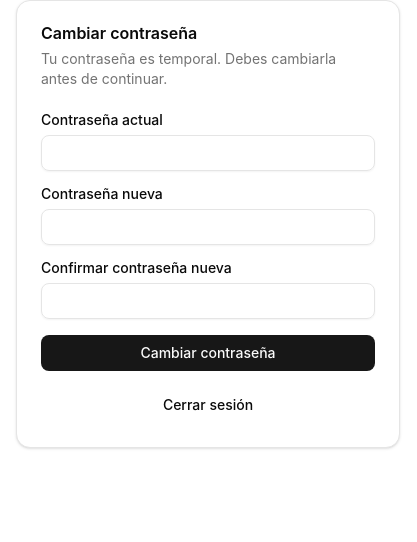
Test case: ChangePasswordPage › checks the password rules before sending
The image size is (417, 542).
In the password field labelled "Contraseña actual": (208, 153) 41,135 -> 375,171, type "Sierap-Inicio-2026"
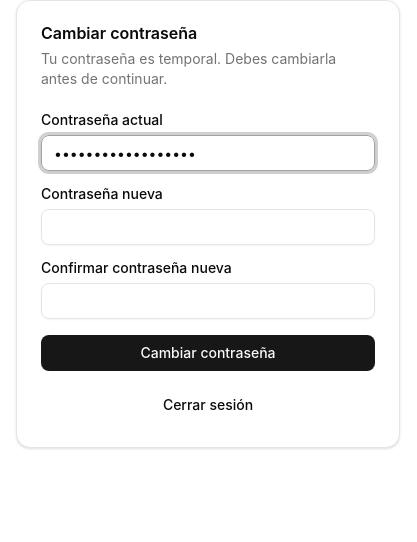
In the password field labelled "Contraseña nueva": (208, 227) 41,209 -> 375,245, type "corta"
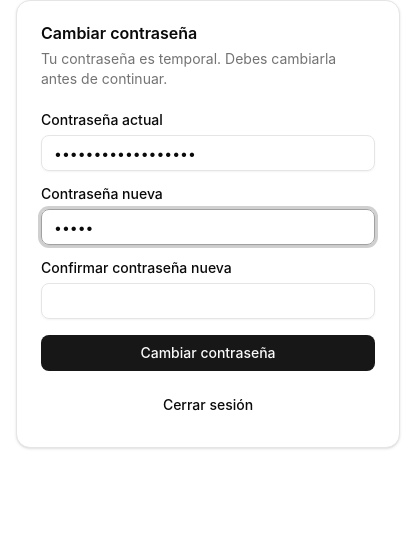
In the password field labelled "Confirmar contraseña nueva": (208, 301) 41,283 -> 375,319, type "otra"
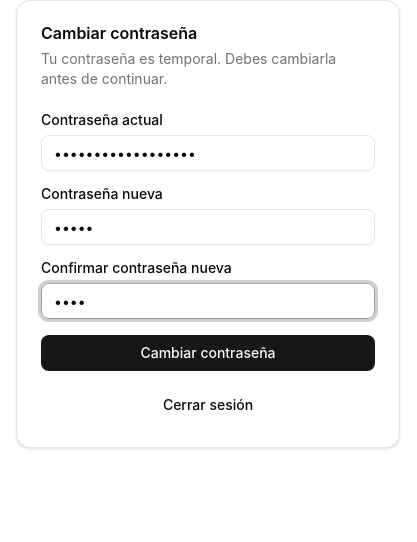
Click the button "Cambiar contraseña": (208, 353) 41,335 -> 375,371
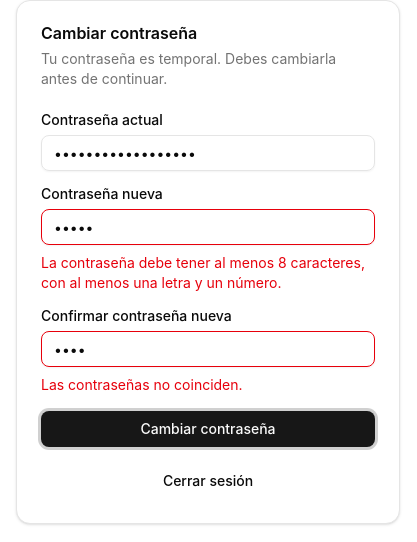
expect the text "al menos 8 caracteres" is shown: met, box 41,254 -> 365,291
expect the text "Las contraseñas no coinciden." is shown: met, box 41,376 -> 243,393
